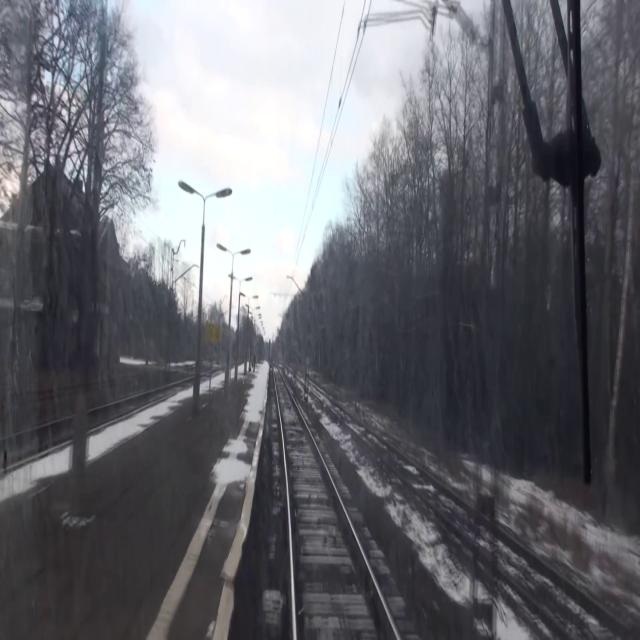rail-track: (274, 367, 395, 639), (324, 398, 471, 534), (496, 530, 635, 639)
